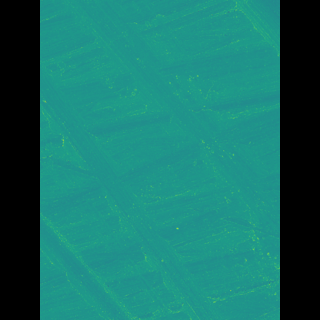Loch: (84, 0, 249, 226), (69, 63, 211, 320), (69, 209, 145, 320)
